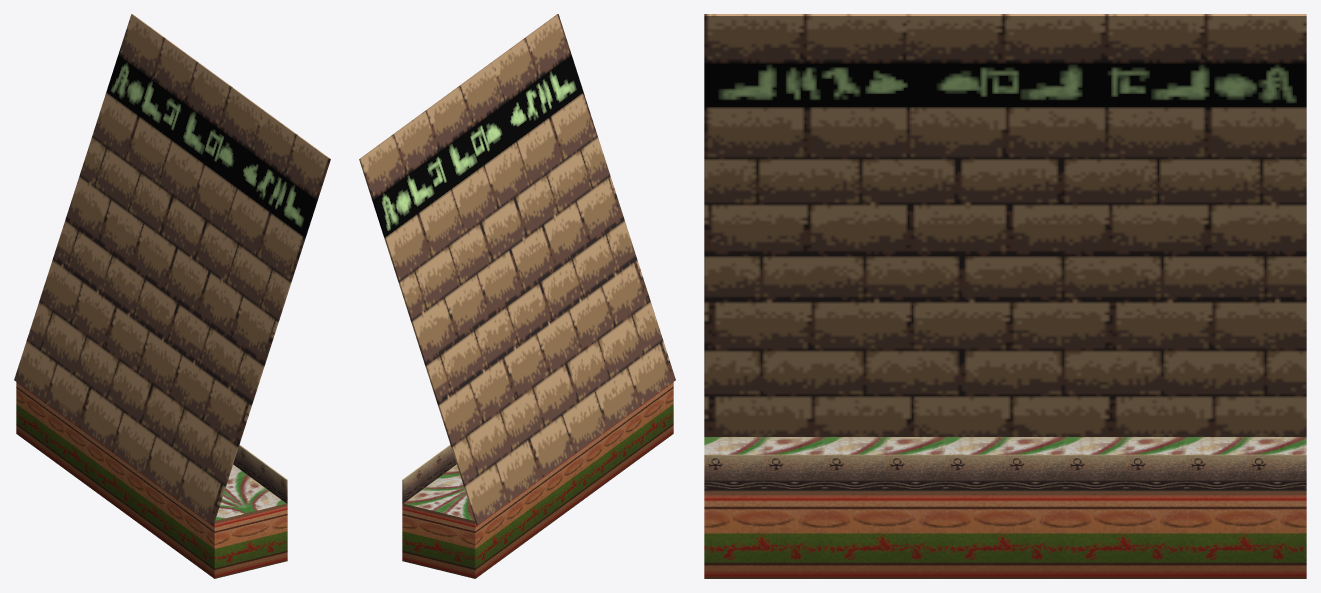
The model's file is walling.glb.
3 renders of one model, left to right at view 1: azimuth 30°, elevation 25°; view 2: azimuth 150°, elevation 25°; view 3: azimuth 270°, elevation 25°, orthographic. The views are drawn at different scales.
Parts seen in each view (by area): view 1: Plane, Cube, Cube.001; view 2: Plane, Cube, Cube.001; view 3: Plane, Cube, Cube.001.
Part boxes in pixels (left/top/right/bottom): Plane: left=14, top=14, right=330, bottom=525; Cube: left=16, top=382, right=287, bottom=578; Cube.001: left=233, top=444, right=287, bottom=503; Plane: left=359, top=14, right=675, bottom=525; Cube: left=402, top=382, right=673, bottom=578; Cube.001: left=402, top=444, right=456, bottom=503; Plane: left=704, top=14, right=1306, bottom=436; Cube: left=704, top=437, right=1306, bottom=578; Cube.001: left=704, top=454, right=1306, bottom=490.
Size of the model in its own units: 6.92 by 21.82 by 20.
1 material, 1 textured.
